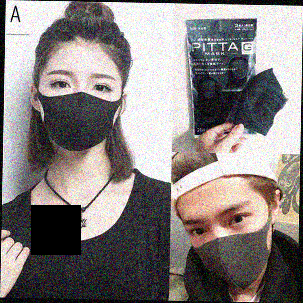with_mask: (180, 198, 273, 295), (36, 66, 124, 155)
